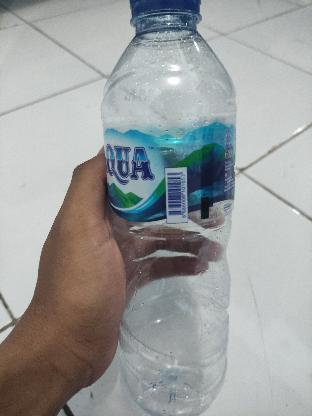Plastic Bottle: (100, 0, 240, 416)
